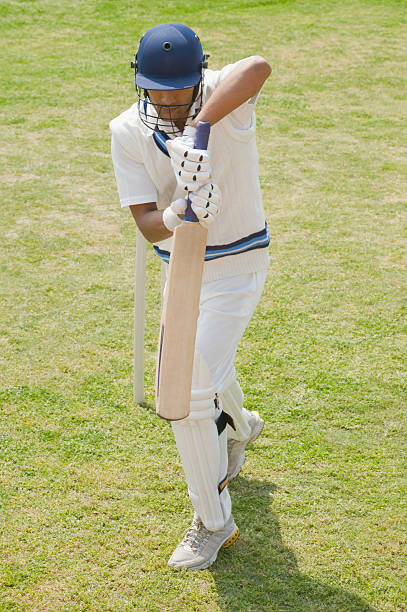bottom left: (145, 397, 168, 416)
bottom right: (176, 403, 200, 423)
top left: (168, 219, 189, 235)
top right: (199, 221, 214, 241)
